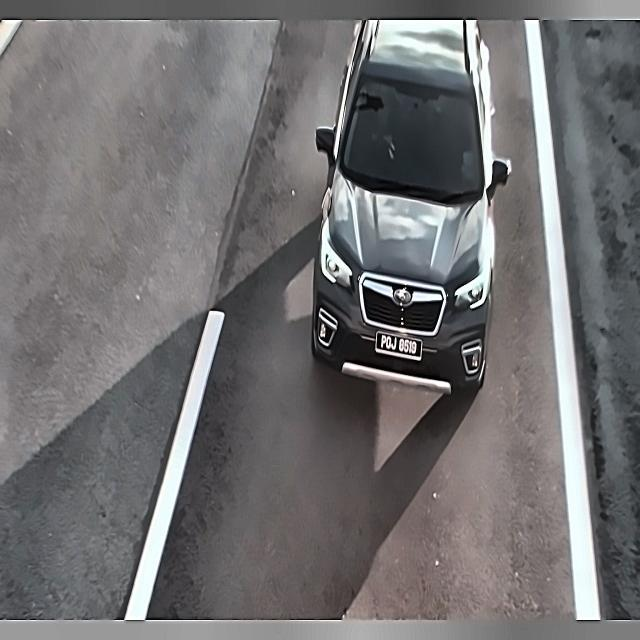car: (374, 330, 426, 366)
